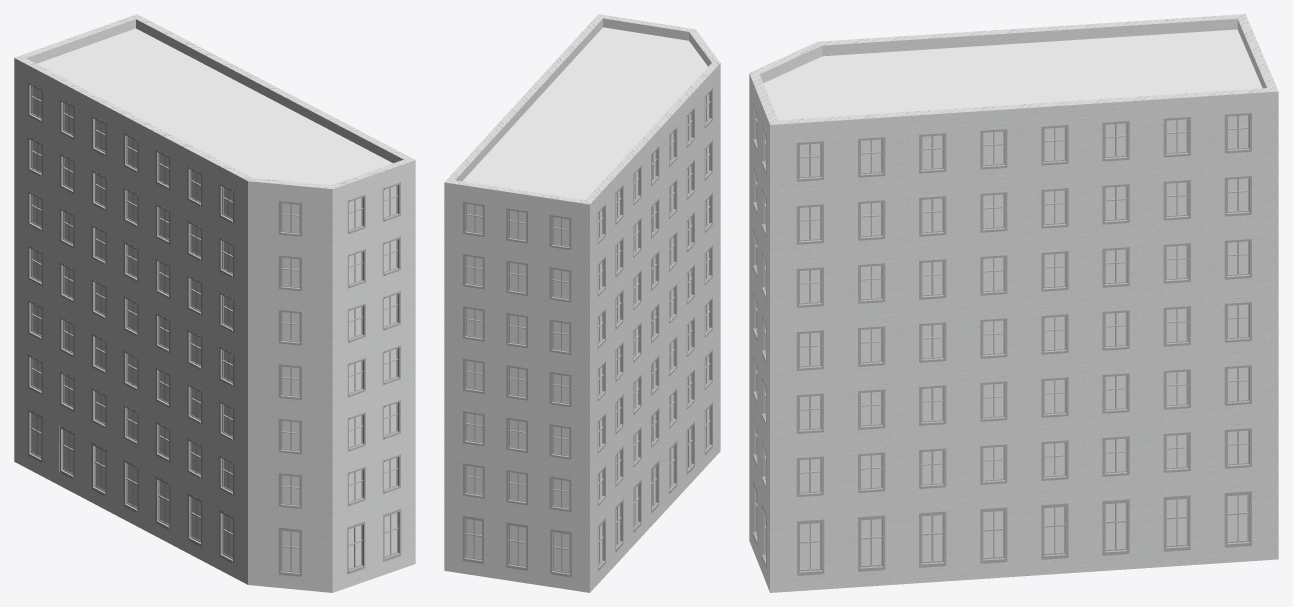
The model's file is clohc8for03rl4p02im4nocfh_0.glb.
3 renders of one model, left to right at view 1: azimuth 30°, elevation 25°; view 2: azimuth 150°, elevation 25°; view 3: azimuth 270°, elevation 25°, orthographic. The views are drawn at different scales.
Visible parts, largest first — view 1: mesh_Brick, mesh_Rim, mesh_Glass, mesh_CityEnginePBRShader; view 2: mesh_Brick, mesh_Rim, mesh_CityEnginePBRShader, mesh_Glass; view 3: mesh_Brick, mesh_Rim, mesh_Glass, mesh_CityEnginePBRShader.
Part boxes in pixels (bbox=[...]): mesh_Brick: bbox=[14, 14, 415, 592]; mesh_Rim: bbox=[28, 82, 401, 576]; mesh_Glass: bbox=[32, 86, 396, 571]; mesh_CityEnginePBRShader: bbox=[37, 28, 392, 185]; mesh_Brick: bbox=[444, 14, 720, 592]; mesh_Rim: bbox=[462, 88, 712, 577]; mesh_CityEnginePBRShader: bbox=[462, 27, 707, 199]; mesh_Glass: bbox=[466, 94, 709, 572]; mesh_Brick: bbox=[749, 14, 1278, 592]; mesh_Rim: bbox=[753, 102, 1251, 575]; mesh_Glass: bbox=[757, 114, 1247, 569]; mesh_CityEnginePBRShader: bbox=[763, 29, 1262, 120].
Size of the model in its own units: 13.34 by 26.2 by 26.86.
4 materials, 1 textured.
